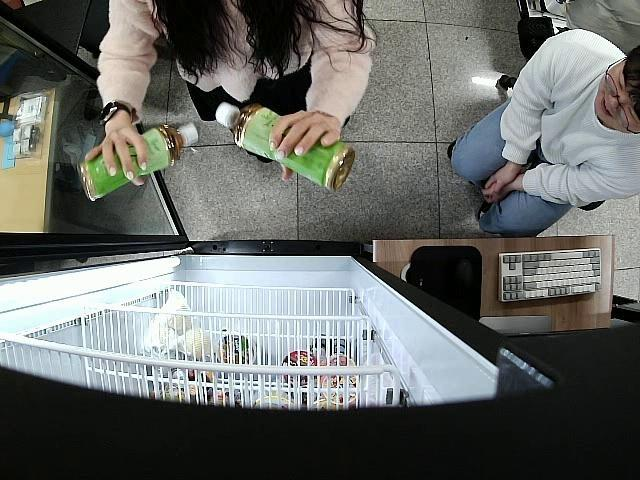19_17cha: (212, 101, 356, 190), (78, 122, 200, 203)
